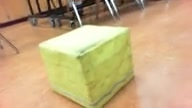cube: (38, 23, 135, 108)
